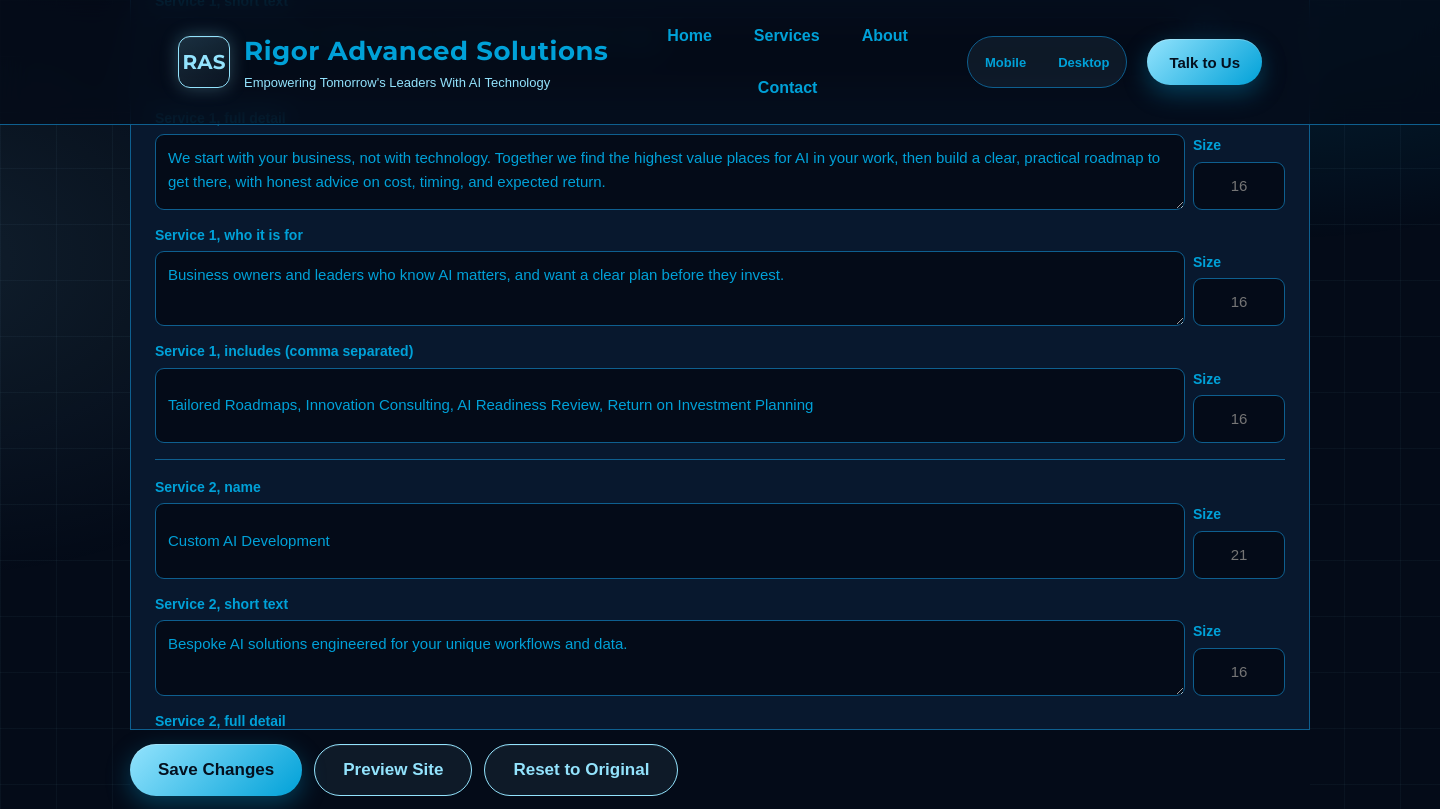
Test: Audit fixes — controls that did not work › lets the service includes list hold more than one item
(page scrolled)
Note: Two textboxes live in this field: the text itself and its Size box.
Replace the text in the field below "Service 1, includes (comma separated)" with "Chatbots, Workflow Optimization". click: [670, 405]
box: [155,368,1185,443]
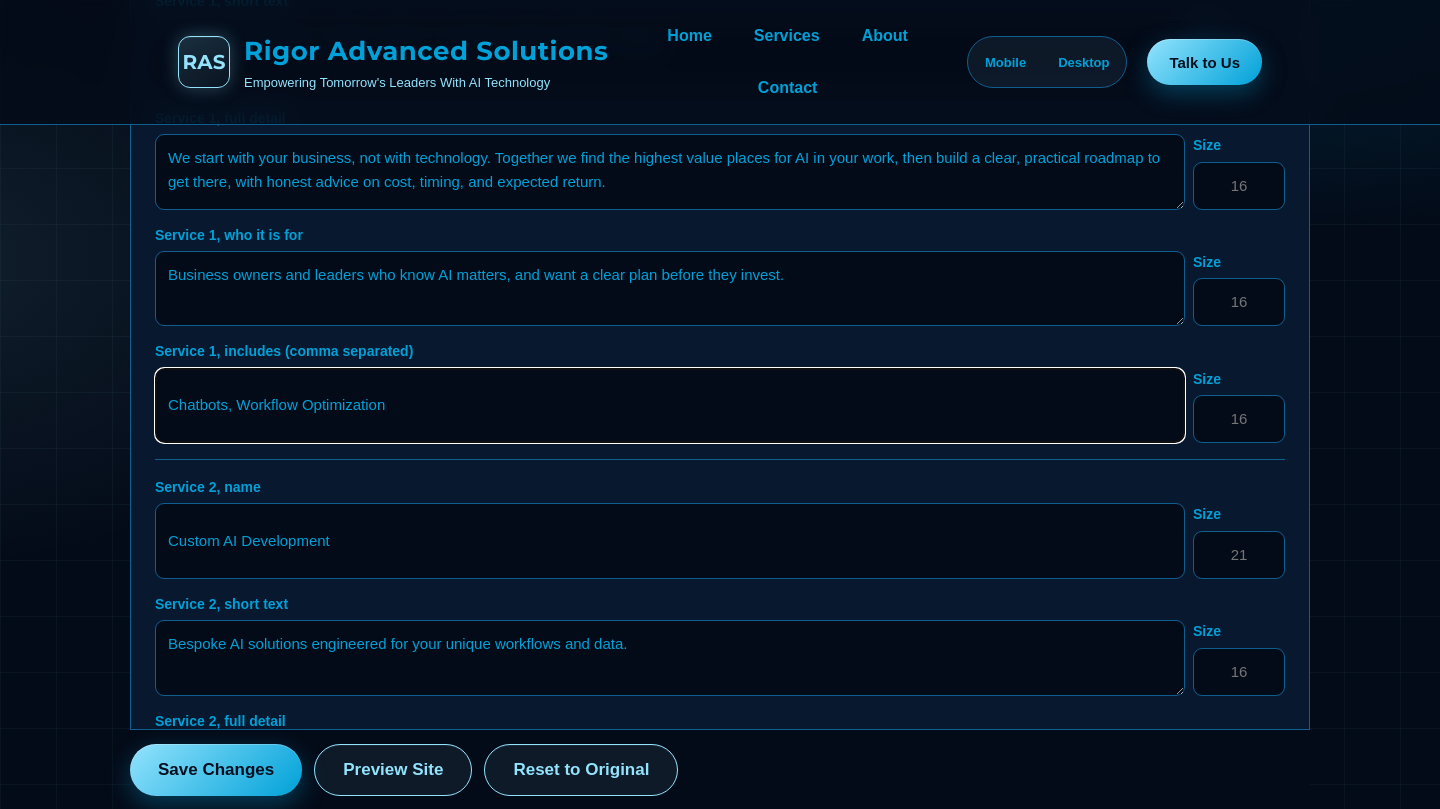
Expected: the navigation bar with class "nav-row" is shown, [628,14,947,110]
Note: The list updates only after leaving the box (draft + commit).
Click the button "Services". click: [787, 36]
box: [737,14,837,58]
(page scrolled)
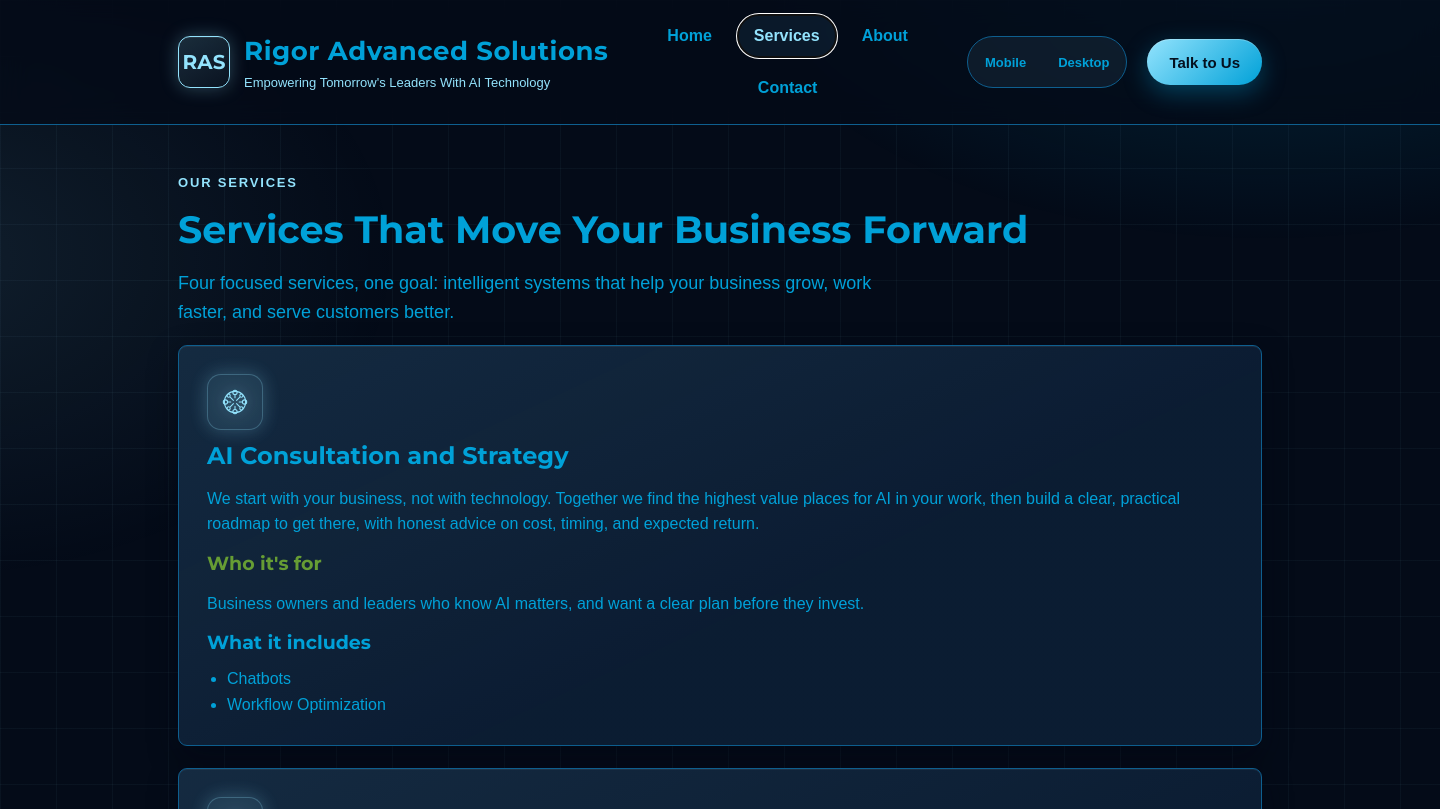
Expected: the heading "Services That Move Your Business Forward" is shown, [178,206,1028,253]
Expected: the list item "Chatbots" is shown, [227,670,291,687]
Expected: the list item "Workflow Optimization" is shown, [227,696,386,713]
